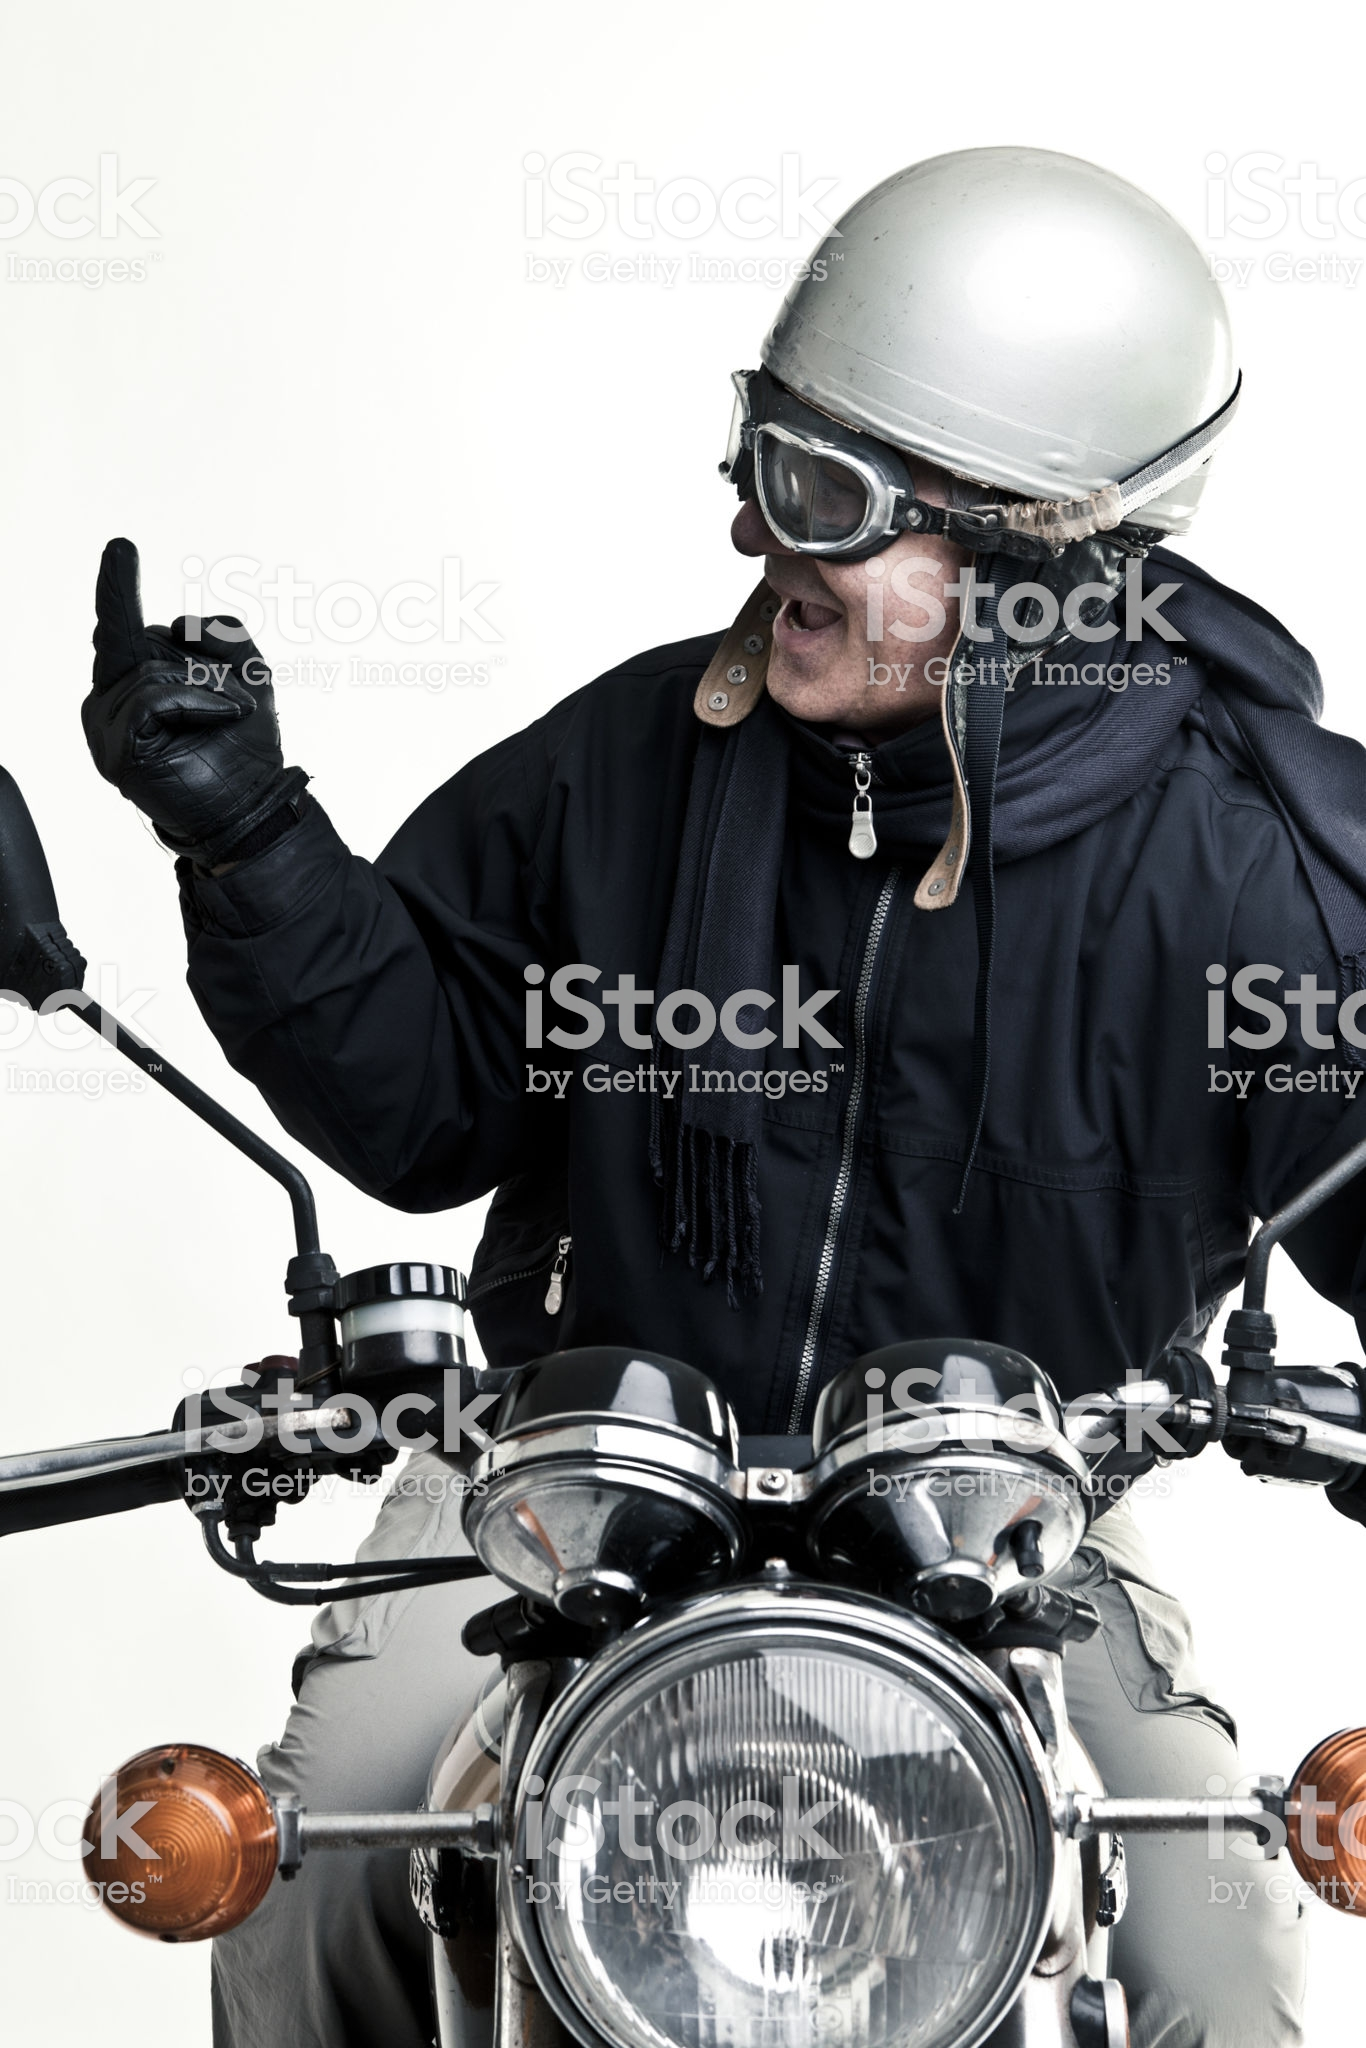helmet: (779, 98, 1267, 568)
